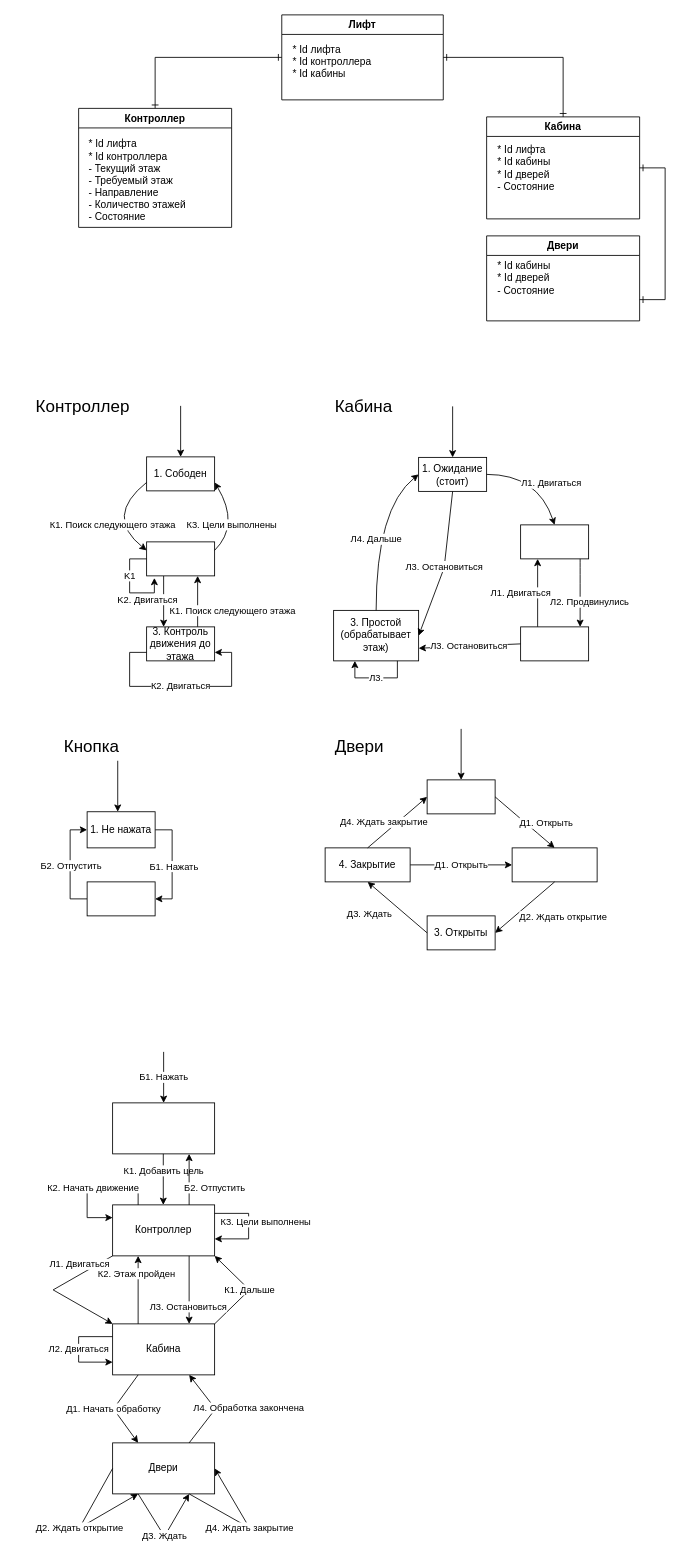
Some shapes in this 688 by 1558 pixel diagram are drawn without their labels. The shapes that lost their labels are listed below. From the top down, each one's box as (x1, y1, x2, y2) in pixels, then its label:
(146, 541, 215, 576): 2. Поиск этажа
(520, 524, 589, 559): 2. Движение
(520, 626, 589, 661): 3. Приехали
(426, 779, 495, 814): 1. Закрыты
(511, 847, 597, 882): 2. Открыт ие
(86, 881, 155, 916): 2. Нажата
(112, 1102, 215, 1154): Кнопки
